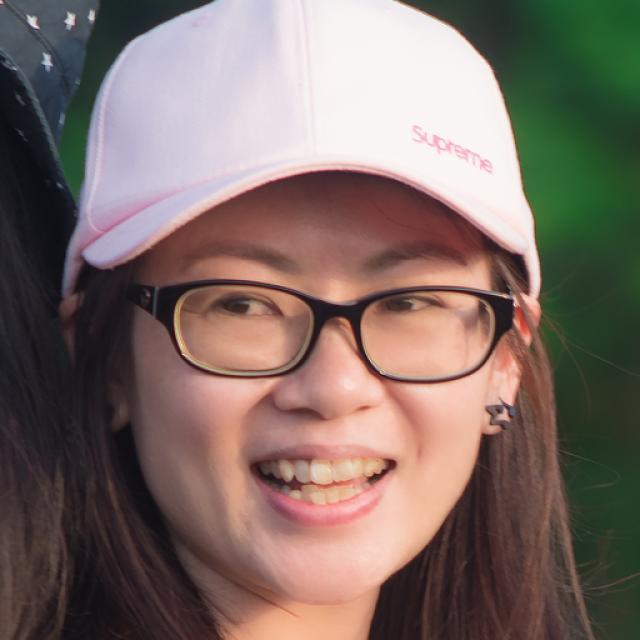happy: (131, 145, 491, 598)
